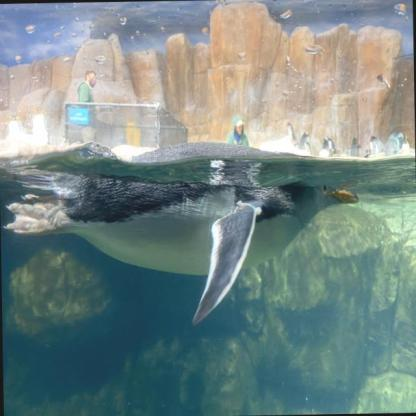penguin: (2, 156, 360, 328), (32, 108, 51, 146), (6, 113, 24, 139), (386, 132, 401, 156), (297, 131, 311, 153), (346, 136, 361, 156), (369, 134, 382, 155), (323, 135, 335, 156), (401, 133, 409, 151), (286, 121, 294, 139)
